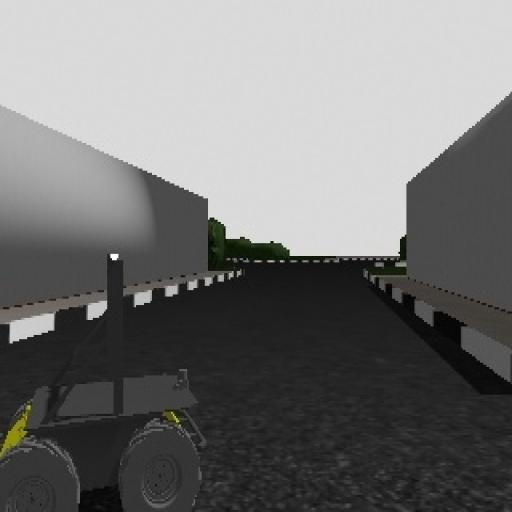huskya200: (0, 229, 216, 512)
